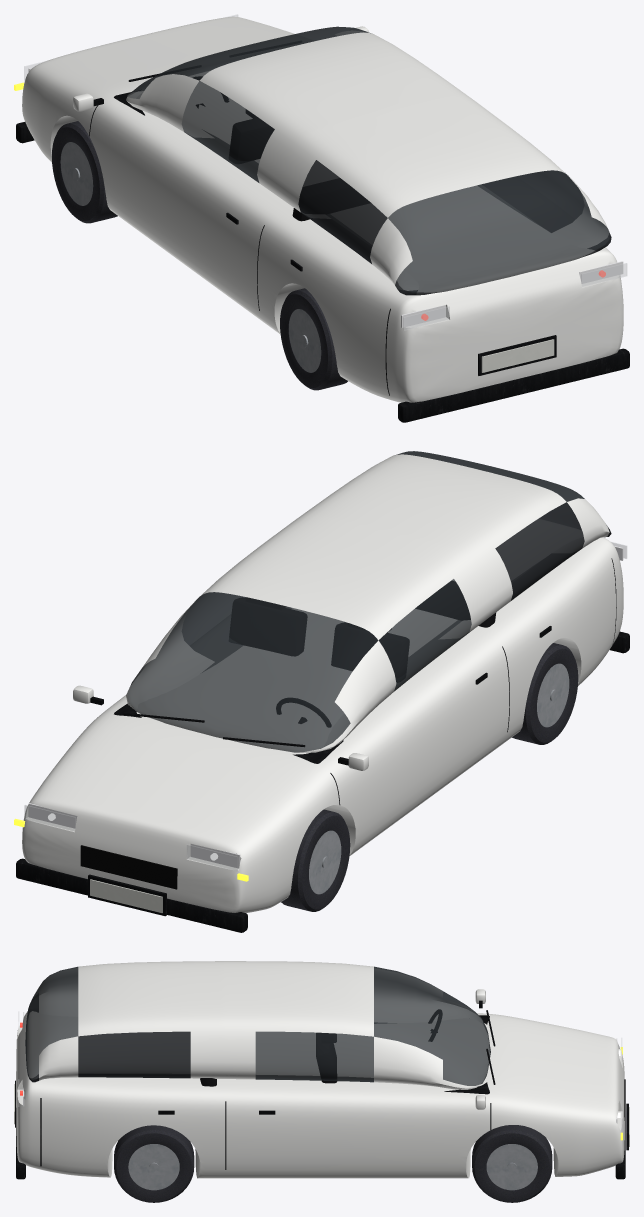
The model's file is estate_white.gltf.
The picture shows the model from 3 angles, top to bottom: view 1: azimuth 30°, elevation 25°; view 2: azimuth 150°, elevation 25°; view 3: azimuth 270°, elevation 25°; orthographic projection. The views are drawn at different scales.
Parts seen in each view (by area): view 1: estate_white; view 2: estate_white; view 3: estate_white.
Boxes of the visible parts, x1,y1,x2,y2 form: estate_white: (14,14,629,422); estate_white: (14,451,629,932); estate_white: (14,961,629,1202).
Bounding box in the file's own units: 2.11 × 1.48 × 4.9.
17 materials, 8 textured.
